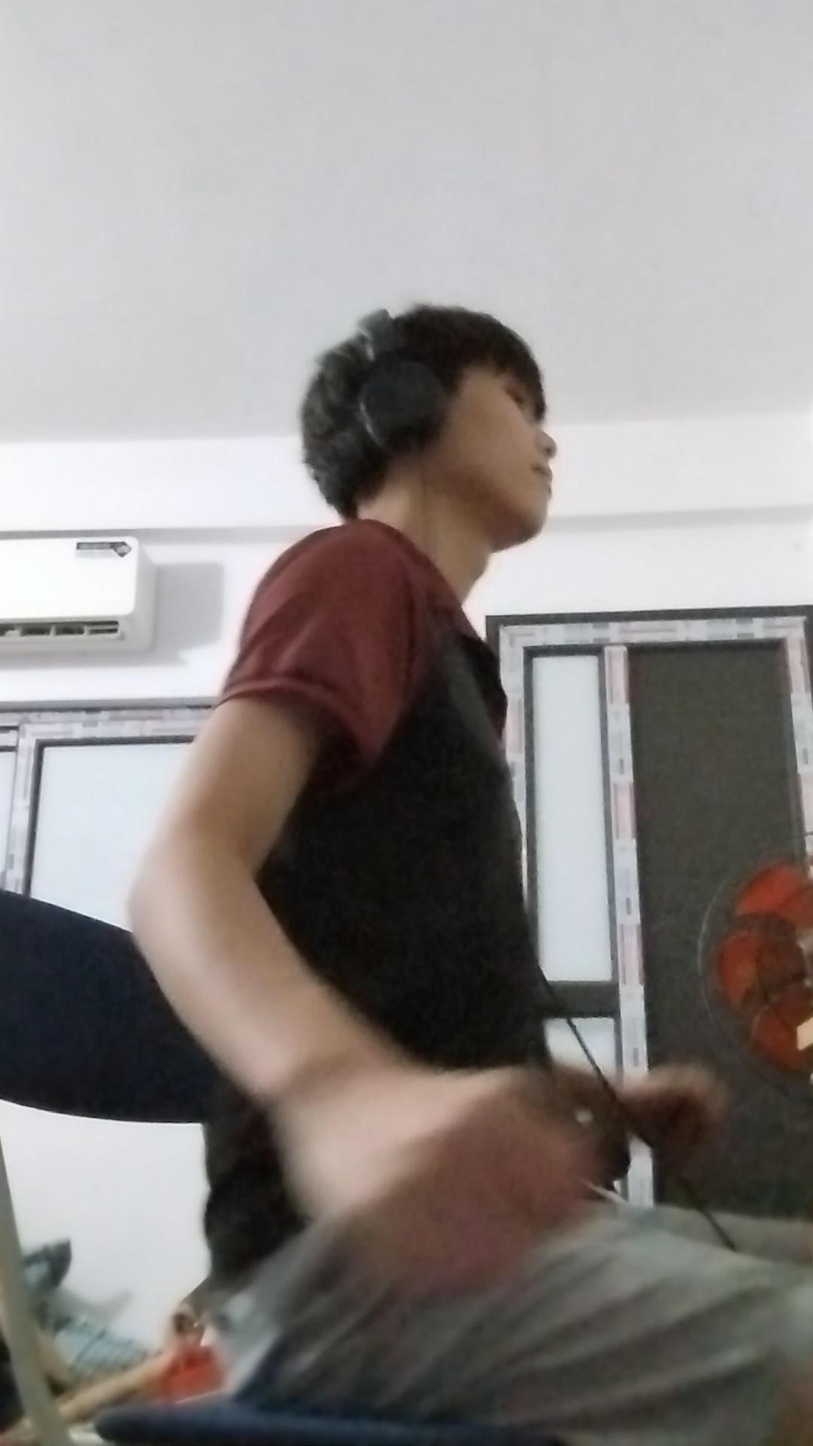GoodPosture: (131, 305, 812, 1445)
